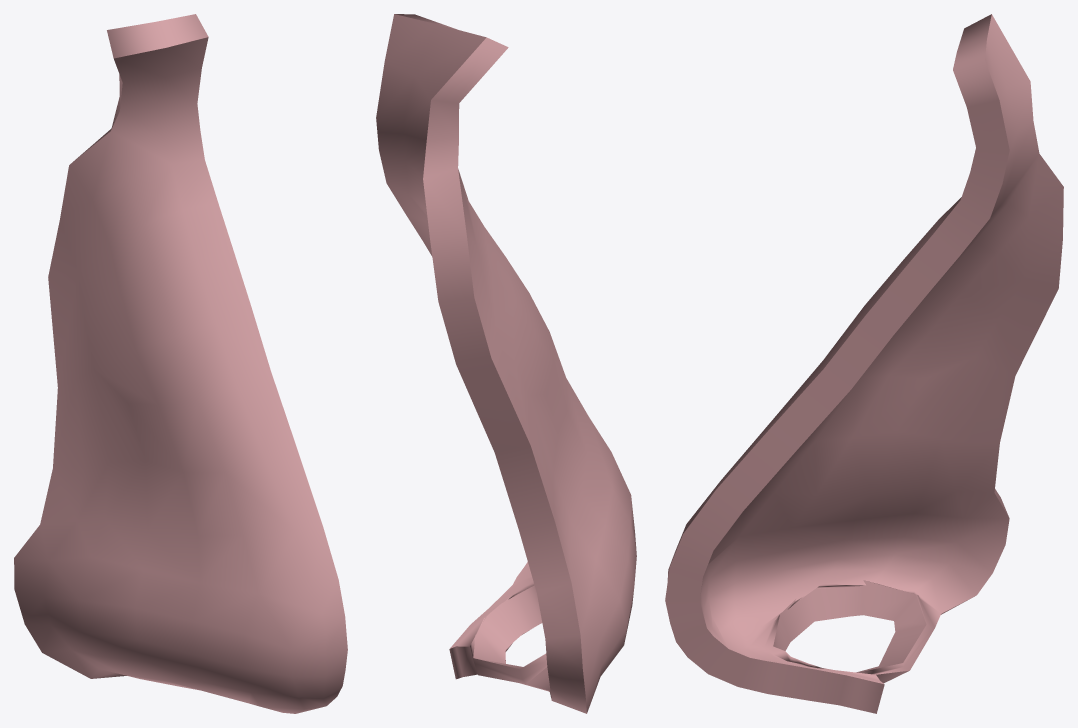
3 views of the same model, side by side, from view 1: azimuth 30°, elevation 25°; view 2: azimuth 150°, elevation 25°; view 3: azimuth 270°, elevation 25° (orthographic). The views are drawn at different scales.
Visible parts, largest first — view 1: ZA_142b4e62b83659b8; view 2: ZA_142b4e62b83659b8; view 3: ZA_142b4e62b83659b8.
Boxes of the visible parts, x1,y1,x2,y2 form: ZA_142b4e62b83659b8: (14, 14, 347, 713); ZA_142b4e62b83659b8: (376, 14, 636, 713); ZA_142b4e62b83659b8: (665, 14, 1063, 713).
Bounding box in the file's own units: 0.0186 × 0.0627 × 0.0344.
